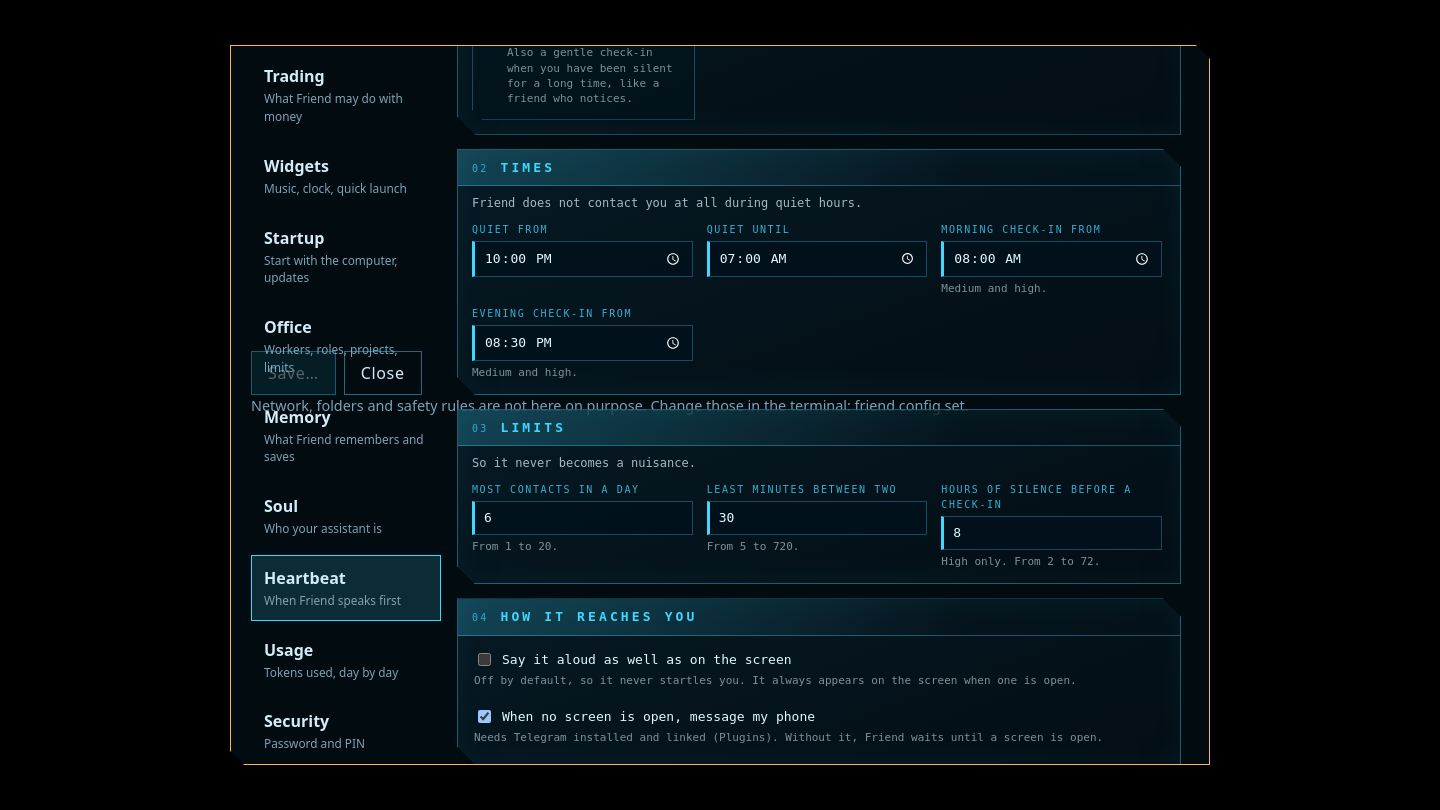
Test: saving heartbeat settings › cannot be saved with a number out of range
(page scrolled)
Replace the text in the number field labelled "Most contacts in a day From 1 to 20." with "50" at (582, 518), box [472,502,693,535]
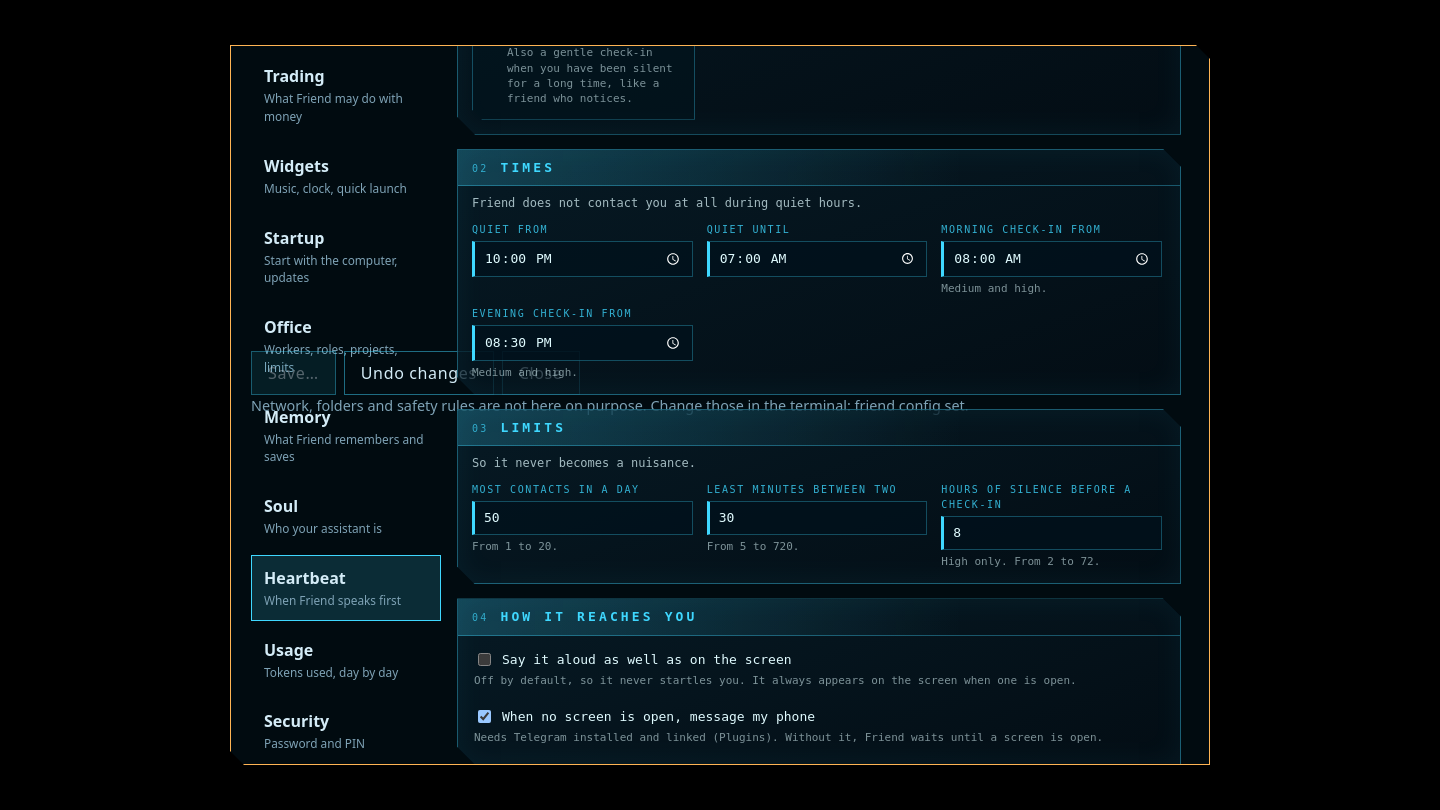
Expected: the button "Save…" is disabled, [251,351,336,395]
Replace the text in the number field labelled "Most contacts in a day From 1 to 20." with "5" at (582, 518), box [472,502,693,535]
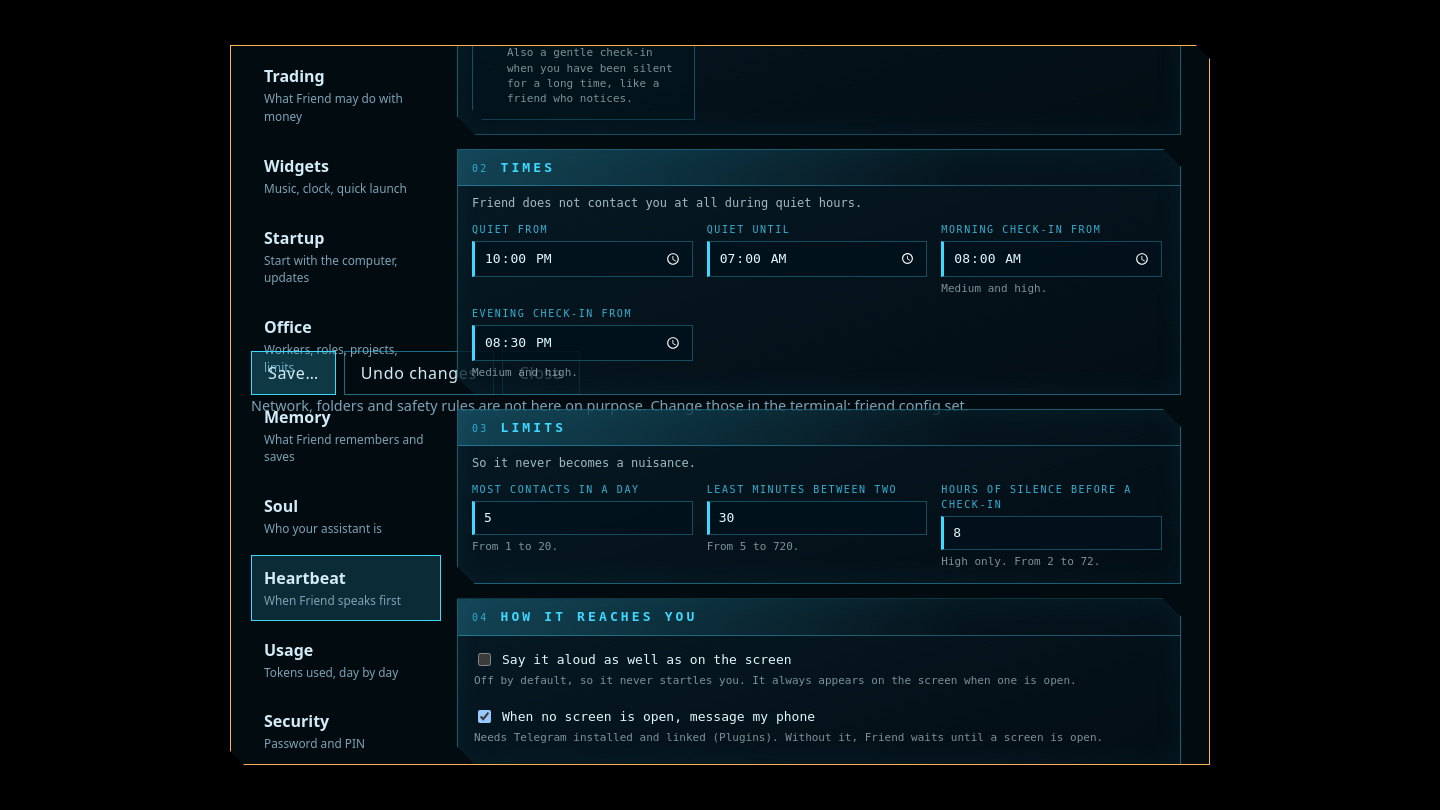
Expected: the button "Save…" is enabled, [251,351,336,395]
